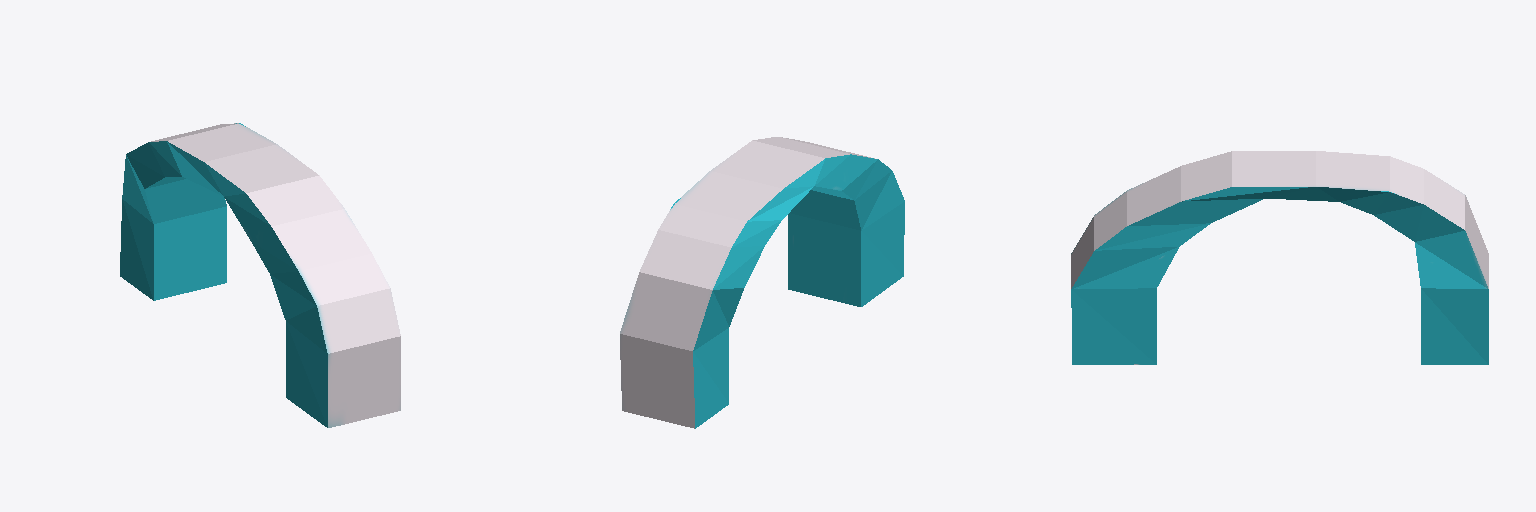
3 views of the same model, side by side, from view 1: azimuth 30°, elevation 25°; view 2: azimuth 150°, elevation 25°; view 3: azimuth 270°, elevation 25° (orthographic).
Visible parts, largest first — view 1: Cube; view 2: Cube; view 3: Cube.
Part boxes in pixels (left/top/right/bottom): Cube: left=120, top=123, right=400, bottom=427; Cube: left=620, top=137, right=904, bottom=428; Cube: left=1071, top=151, right=1488, bottom=364.
Bounding box in the file's own units: 2.4 × 4.62 × 9.86.
Materials: 1 (1 with a texture image).